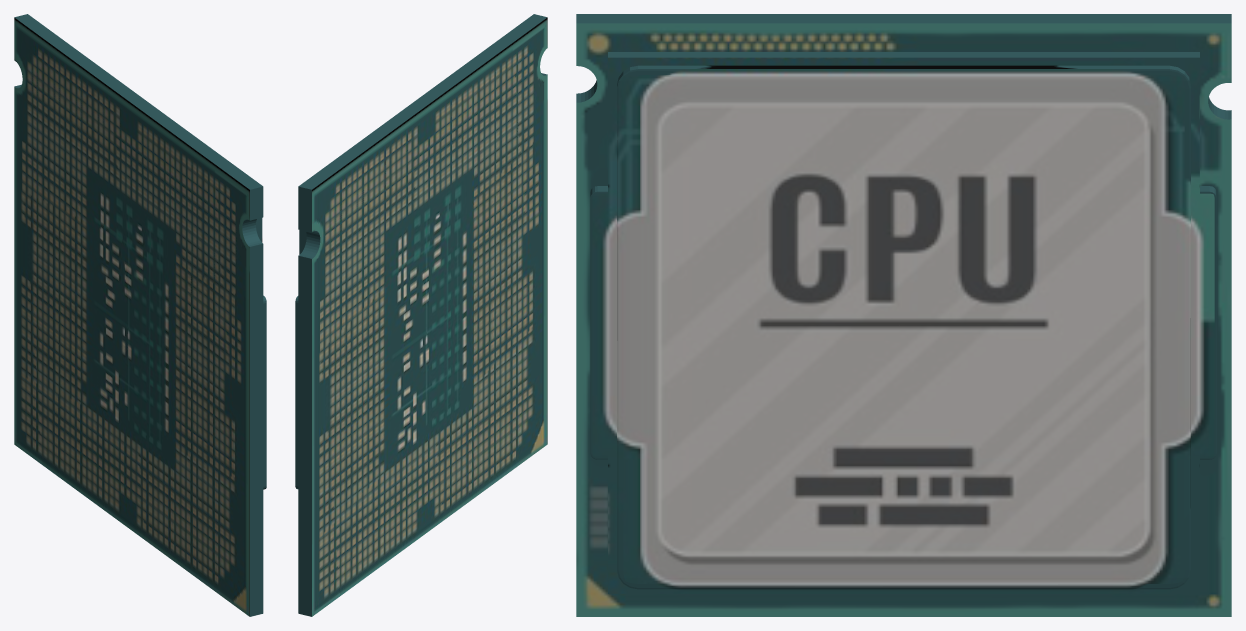
The model's file is Processor.fbx.
3 renders of one model, left to right at view 1: azimuth 30°, elevation 25°; view 2: azimuth 150°, elevation 25°; view 3: azimuth 270°, elevation 25°, orthographic. The views are drawn at different scales.
Parts seen in each view (by area): view 1: Base; view 2: Base; view 3: Base.
Part boxes in pixels (box(x1,y1,x2,y2)): Base: box(14, 14, 266, 616); Base: box(295, 14, 547, 616); Base: box(576, 14, 1231, 616).
Size of the model in its own units: 40.44 by 600 by 600.
Materials: 1 (1 with a texture image).
